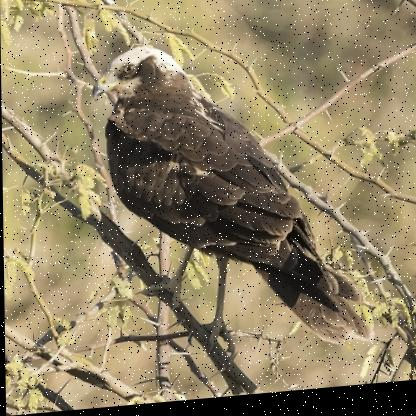Burung: (88, 32, 374, 372)
